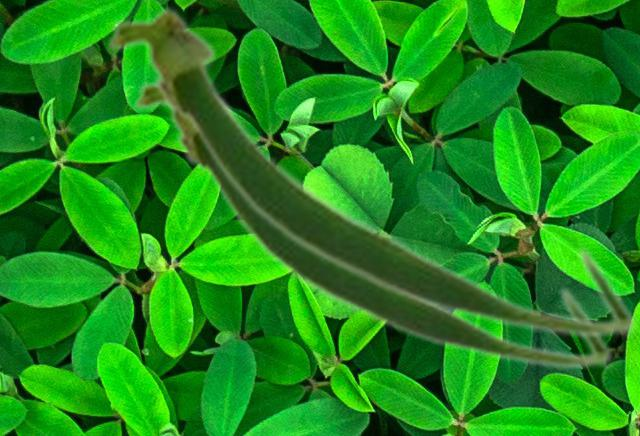french_bean: (103, 2, 638, 340), (130, 74, 614, 371)
